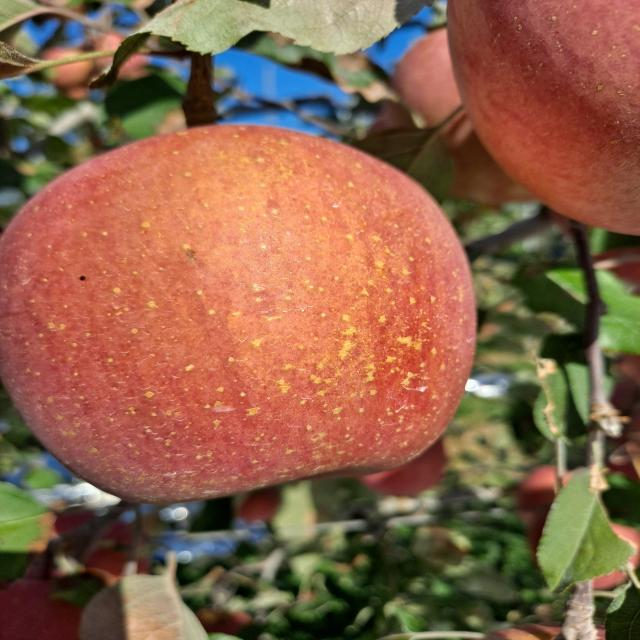fresh: (1, 116, 493, 517)
